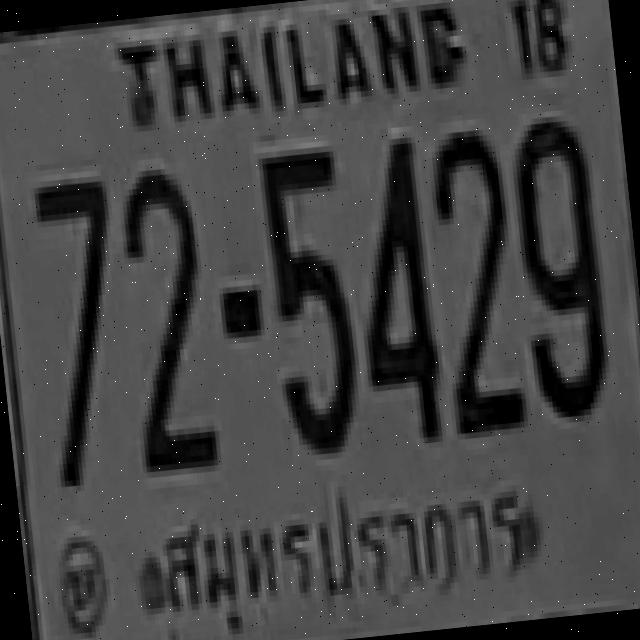2: (111, 163, 217, 464), (423, 122, 525, 428), (423, 125, 523, 403)
4: (342, 131, 442, 442)
5: (255, 140, 362, 452)
7: (30, 175, 132, 481), (29, 172, 126, 427), (29, 176, 121, 380)
9: (504, 113, 610, 414)
SamutPrakan: (148, 463, 546, 640)
